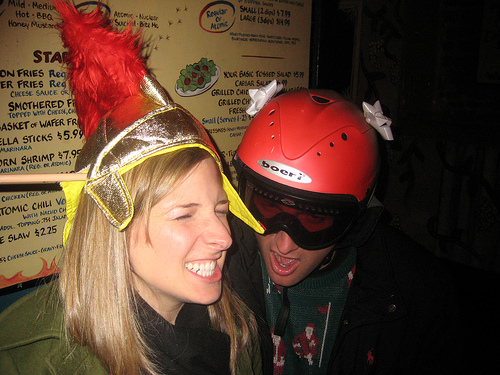helmet: (235, 86, 392, 212)
